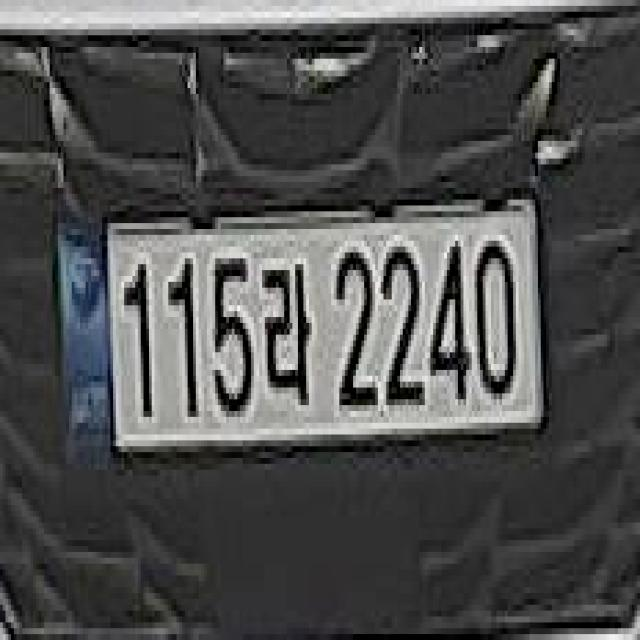illegal_plate: (62, 190, 546, 477)
